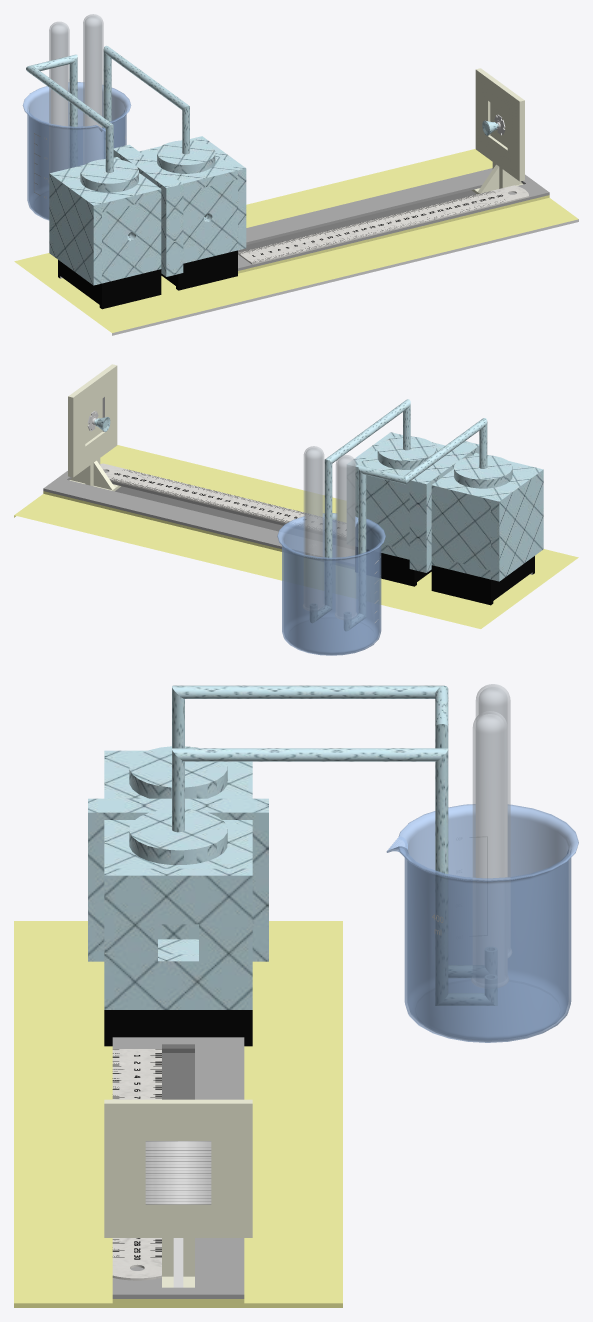
The model's file is Desain Chamber UV v2.glb.
3 views of the same model, one above another, from view 1: azimuth 30°, elevation 25°; view 2: azimuth 150°, elevation 25°; view 3: azimuth 270°, elevation 25° (orthographic). The views are drawn at different scales.
Visible parts, largest first — view 1: Geom3D (×9), Geom3D_ (×14); view 2: Geom3D (×8), Geom3D_ (×13); view 3: Geom3D (×9), Geom3D_ (×9).
Boxes of the visible parts, x1,y1,x2,y2 form: Geom3D (×9): [14, 14, 578, 335]; Geom3D_ (×14): [49, 136, 549, 285]; Geom3D (×8): [14, 364, 578, 655]; Geom3D_ (×13): [43, 432, 543, 581]; Geom3D (×9): [14, 684, 578, 1307]; Geom3D_ (×9): [88, 746, 268, 1298].
Bounding box in the file's own units: 0.55 × 0.2094 × 0.3434.
Materials: 16 (5 with a texture image).
